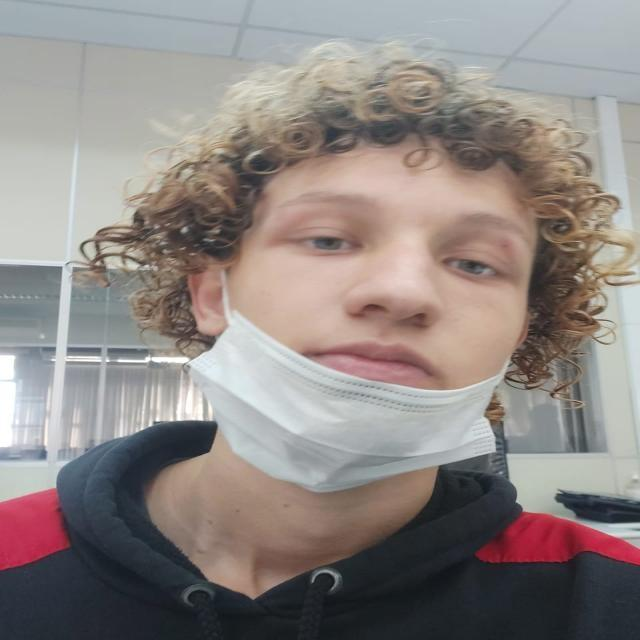hairnet: (244, 157, 506, 446)
